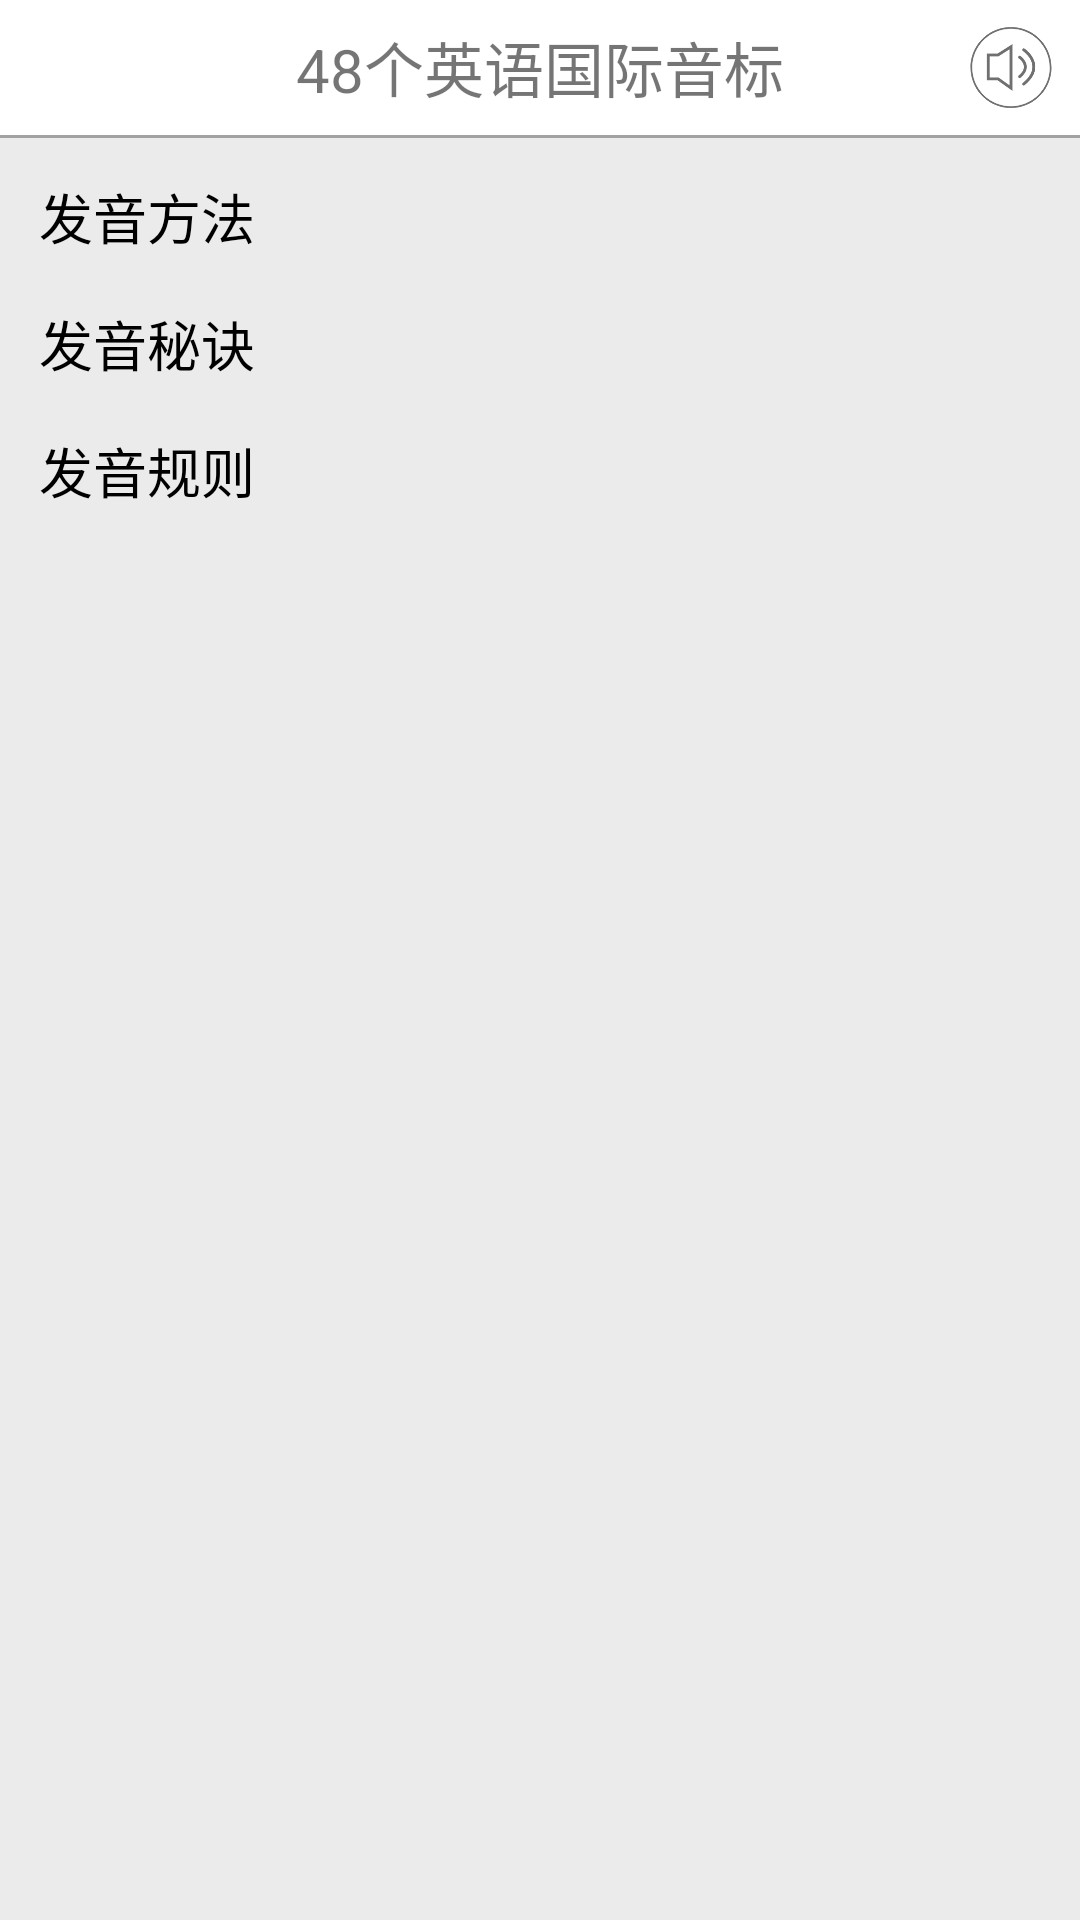

Screen size 1080*1920. Icon name, then its box in pixels as (x1, y1, x2, y2):
laba: (970, 27, 1052, 108)
